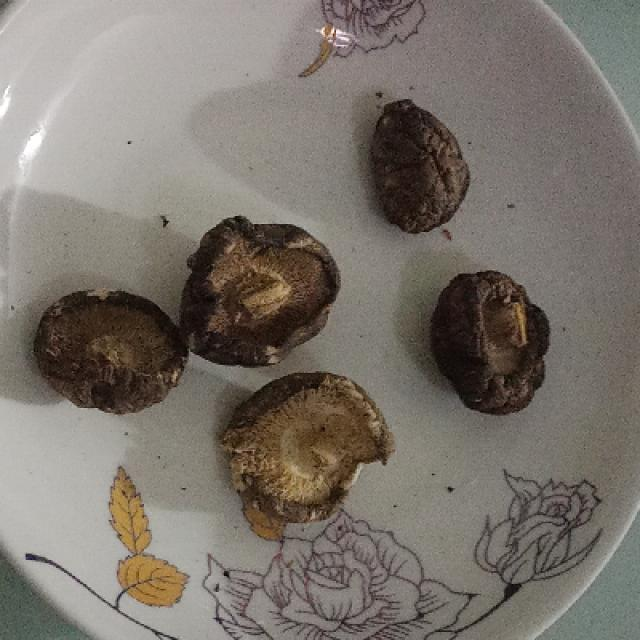Lentinus edodes: (220, 373, 395, 528), (184, 217, 340, 364), (32, 288, 187, 405), (436, 271, 553, 412), (374, 97, 470, 234)
